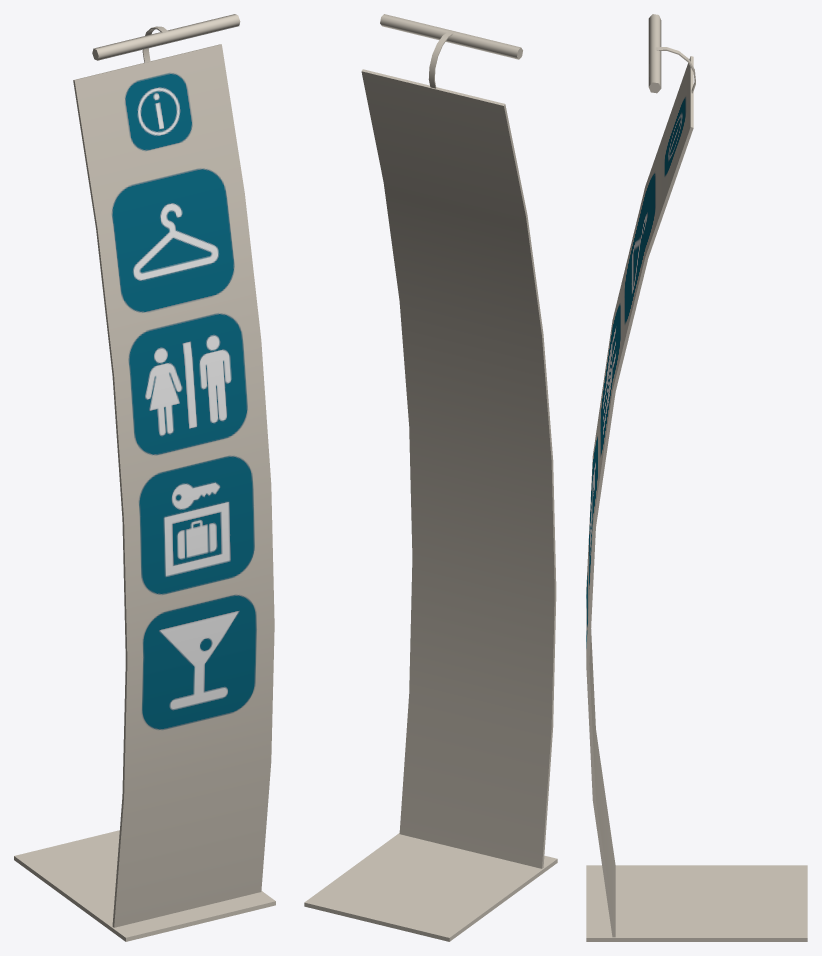
The model's file is InformationDesk_A.fbx.
The picture shows the model from 3 angles, left to right: view 1: azimuth 30°, elevation 25°; view 2: azimuth 150°, elevation 25°; view 3: azimuth 270°, elevation 25°; orthographic projection. The views are drawn at different scales.
Visible parts, largest first — view 1: InformationDesk_A; view 2: InformationDesk_A; view 3: InformationDesk_A.
Part boxes in pixels (x1,y1,x2,y2): InformationDesk_A: [14, 14, 275, 941]; InformationDesk_A: [304, 14, 557, 941]; InformationDesk_A: [586, 14, 807, 941].
Size of the model in its own units: 26.5 by 146 by 34.24.
